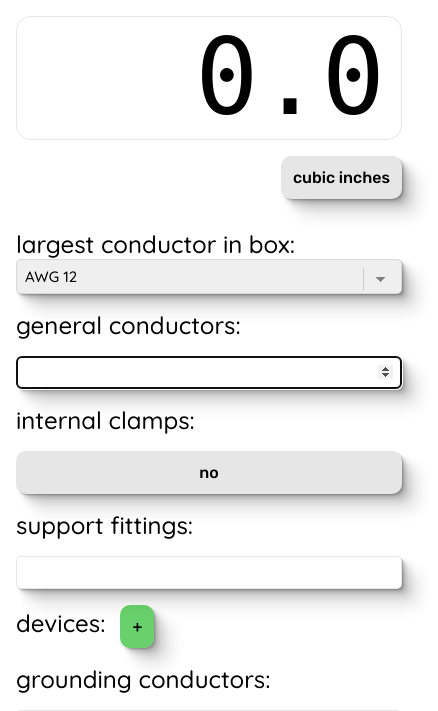
Test: conductorInput › should allow only integer numbers
Type "10.5" into the number field with id "general-conductors" at (209, 373), box [16, 356, 402, 389]
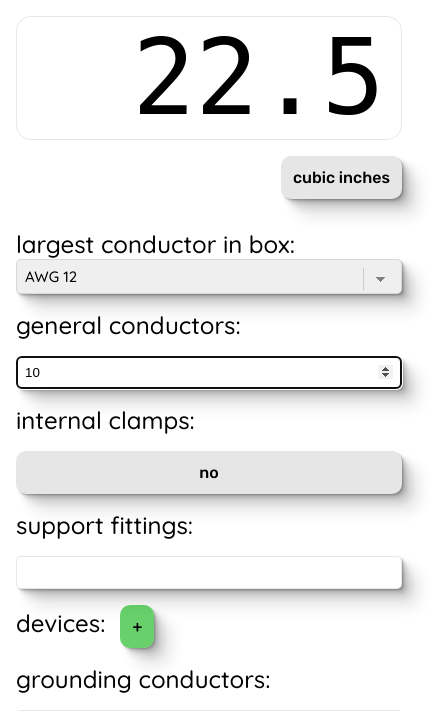
Result: the number field with id "general-conductors" holds "10" at [16, 356, 402, 389]
